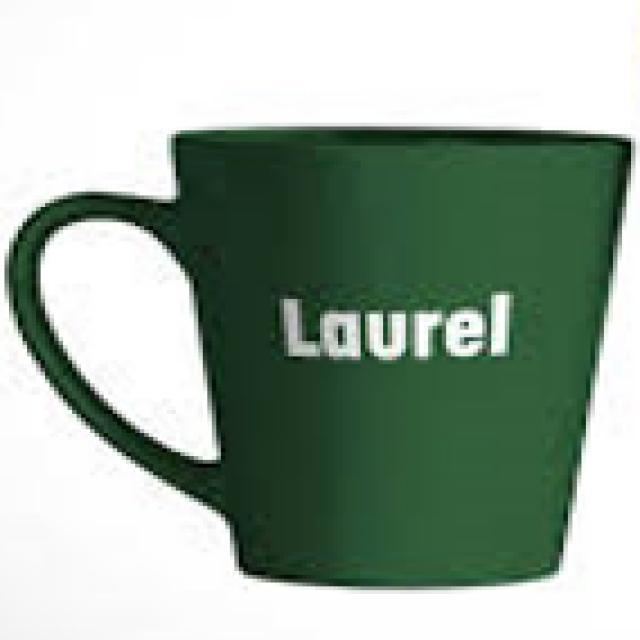taza: (6, 127, 634, 591)
